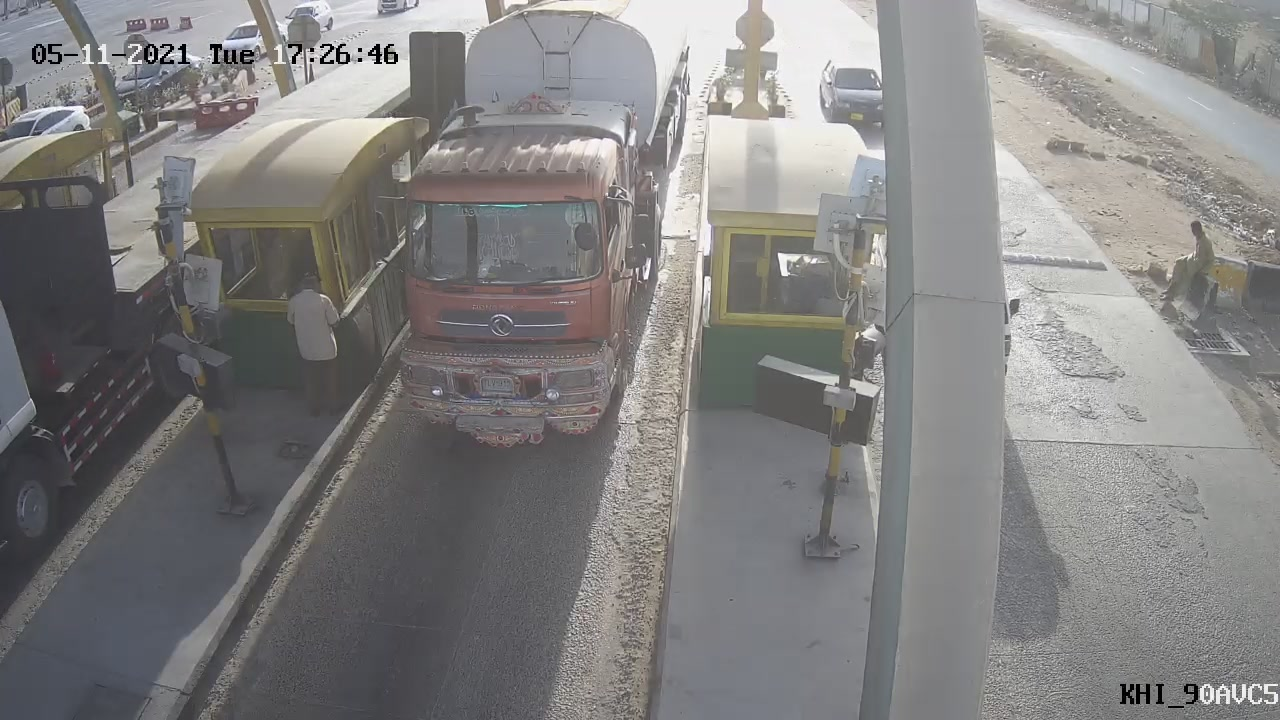F6: (352, 1, 701, 468)
